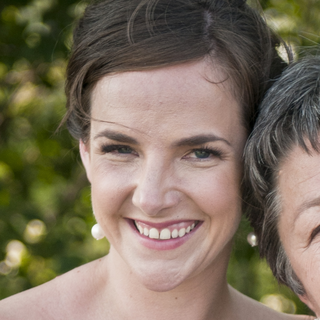eye: (178, 141, 227, 166), (98, 139, 143, 163)
